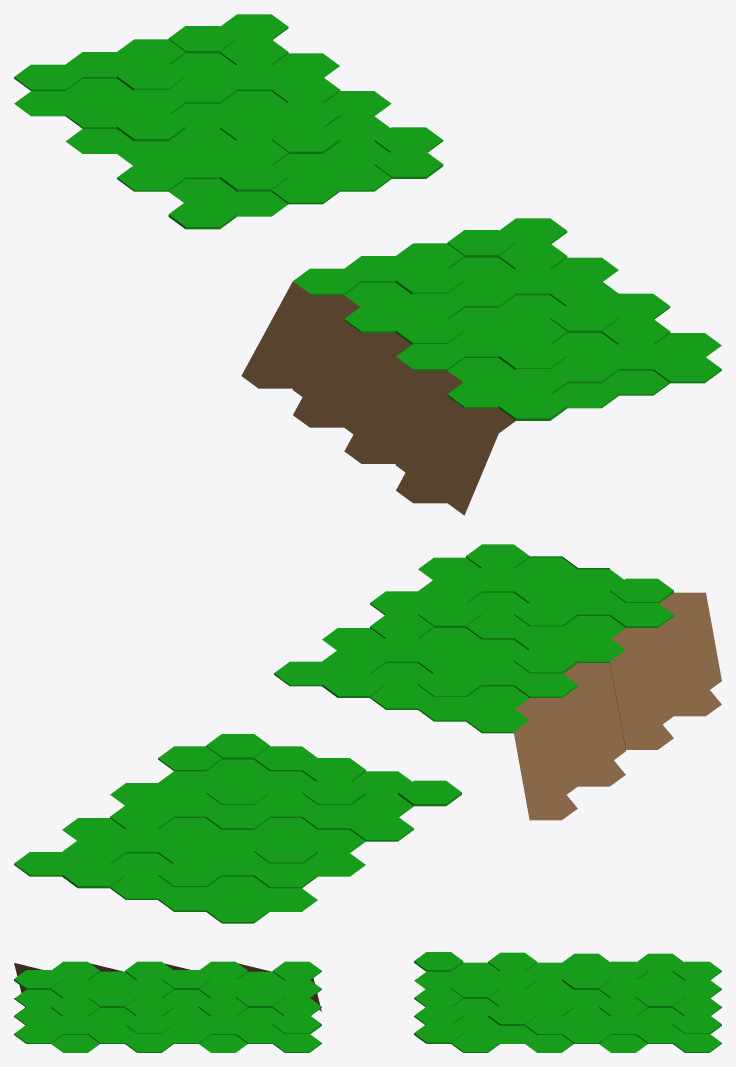
Rendered from Zemin_1.fbx.
The picture shows the model from 3 angles, top to bottom: view 1: azimuth 30°, elevation 25°; view 2: azimuth 150°, elevation 25°; view 3: azimuth 270°, elevation 25°; orthographic projection. The views are drawn at different scales.
Parts seen in each view (by area): view 1: Dere_Yatagi, Zemin; view 2: Dere_Yatagi, Zemin; view 3: Zemin, Dere_Yatagi.
Boxes of the visible parts, <box> form: Dere_Yatagi: <box>241,218,721,515</box>; Zemin: <box>14,14,443,229</box>; Dere_Yatagi: <box>274,544,721,820</box>; Zemin: <box>14,734,461,923</box>; Zemin: <box>414,952,721,1052</box>; Dere_Yatagi: <box>14,961,321,1052</box>.
Size of the model in its own units: 1039 by 272 by 2874.
